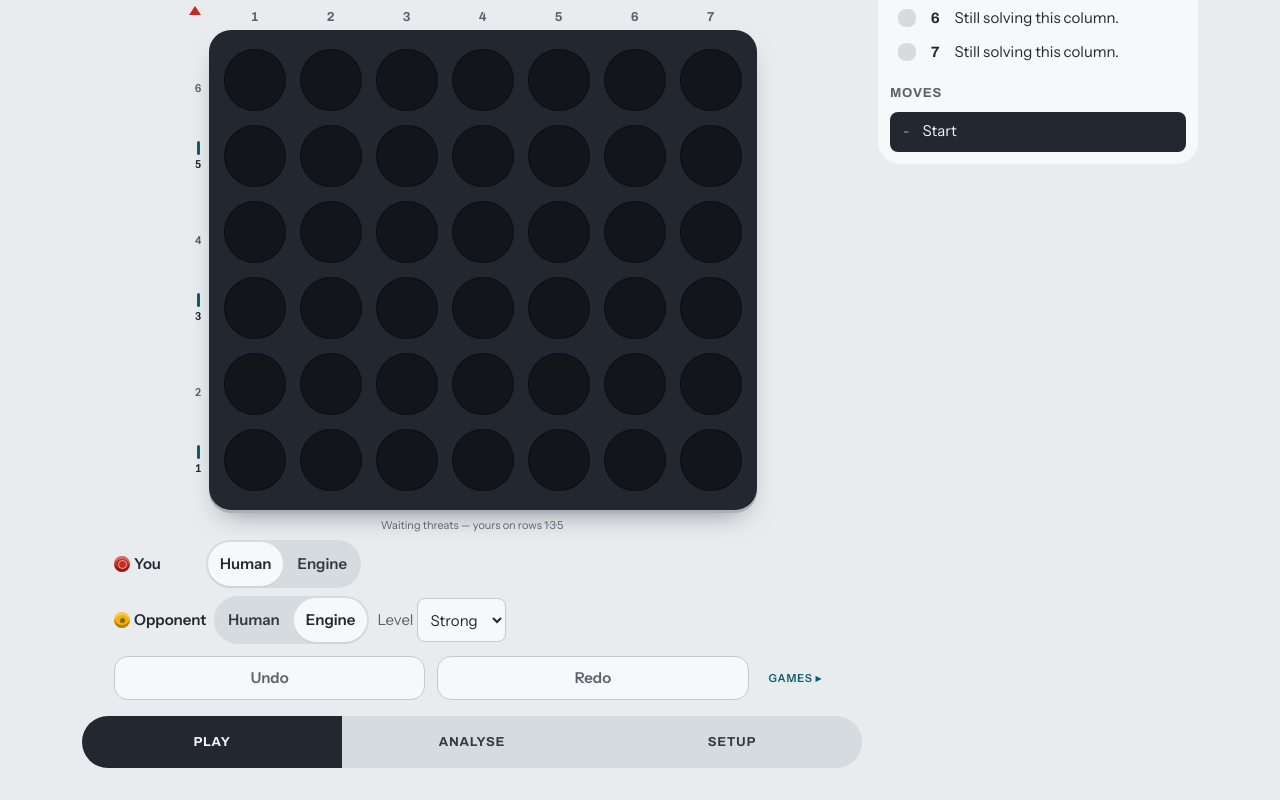
Games door + sheet (design §15.2/§16) › the Games ▸ door is present in Play mode and opens the sheet showing the empty state
The image size is (1280, 800).
(page scrolled)
Click the button "Games ▸": {"x": 795, "y": 678} [761, 656, 830, 700]
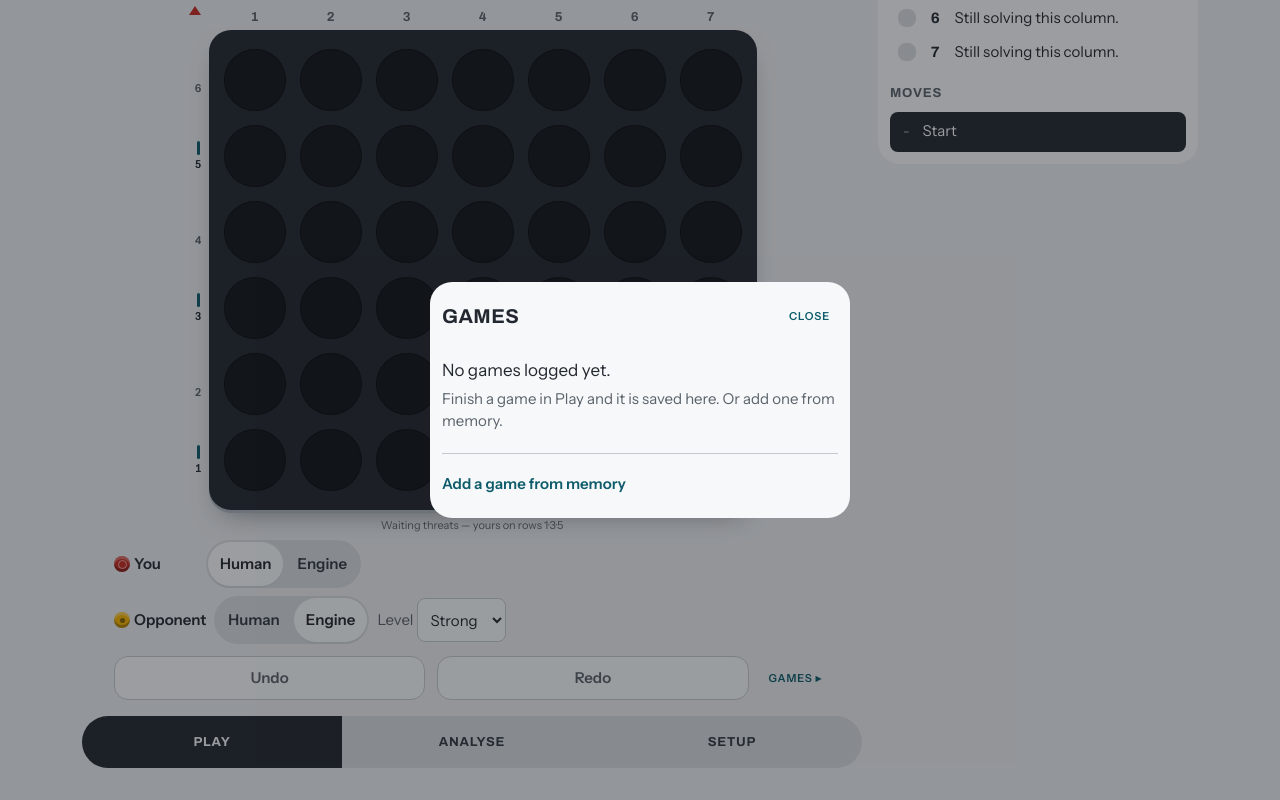
Now the dialog "Games" is shown, box [430, 282, 850, 518]
Now the text "No games logged yet." is shown, box [442, 360, 610, 380]
